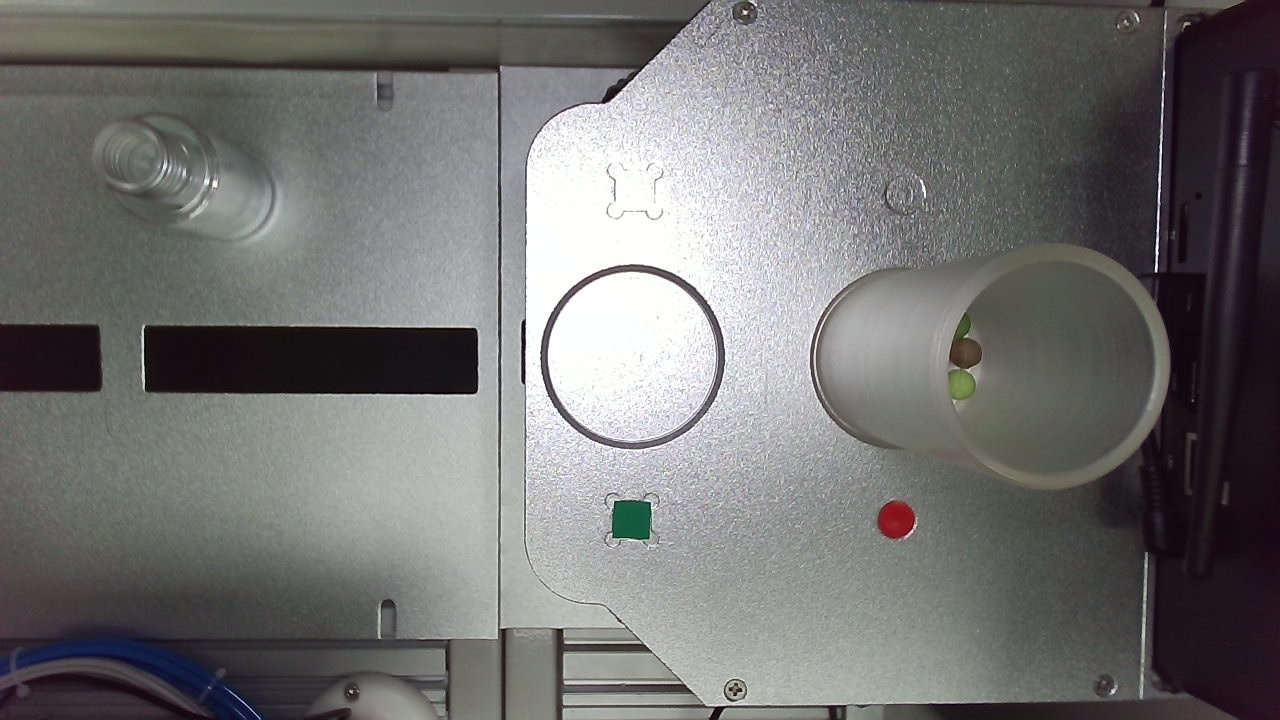XLabel: (497, 99, 563, 165)
YLabel: (926, 154, 999, 227)
none: (326, 239, 659, 565), (779, 290, 1100, 621)
